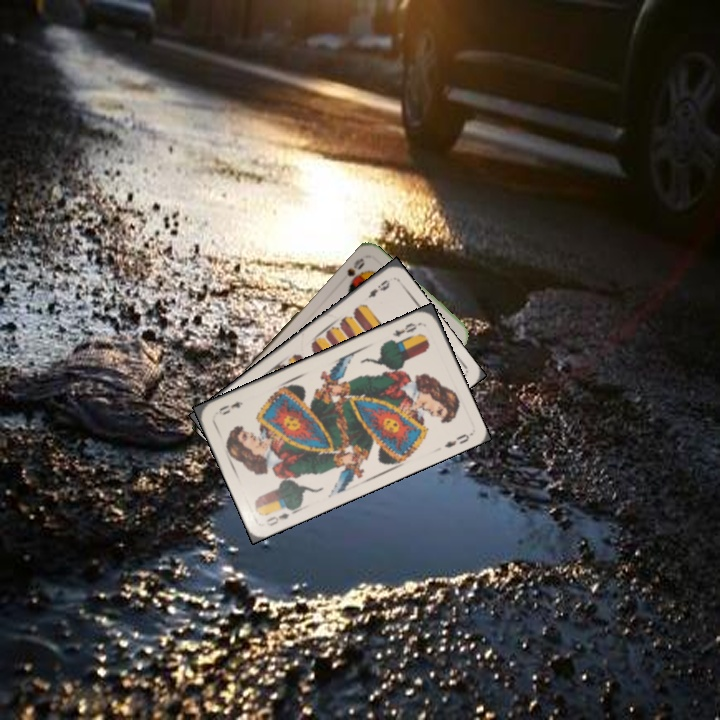E9: (364, 275, 393, 301)
EO: (262, 502, 299, 529), (389, 318, 423, 340)
SO: (343, 254, 367, 287)
